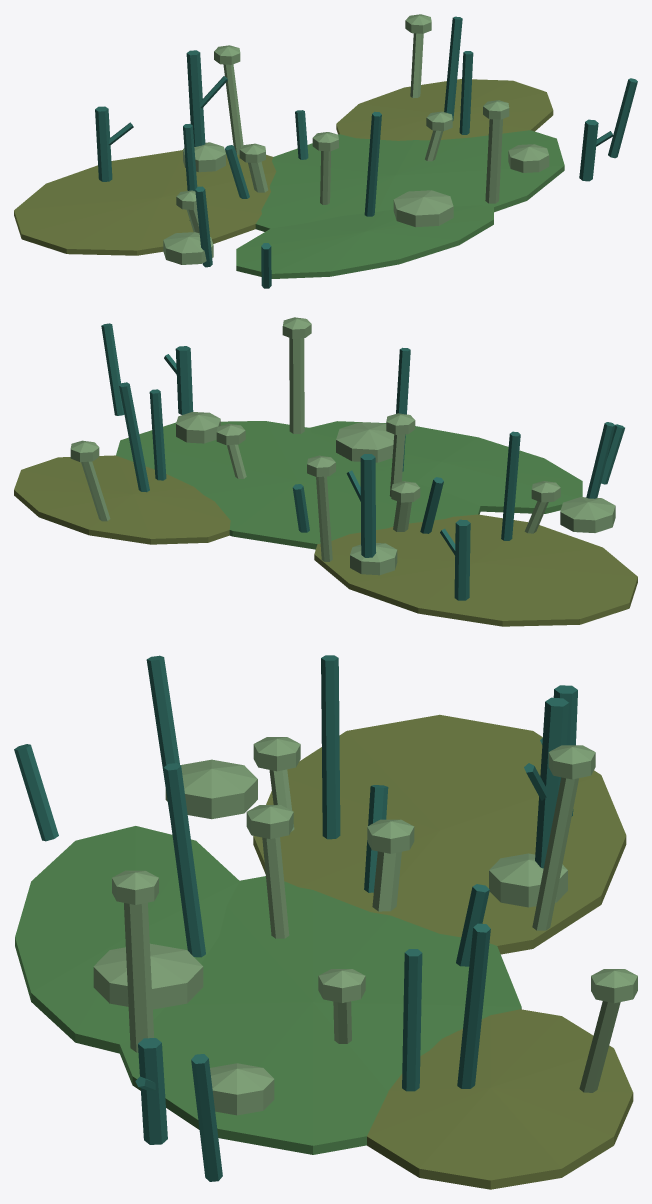
The model's file is vegetation_mat_c.obj.
3 renders of one model, top to bottom at view 1: azimuth 30°, elevation 25°; view 2: azimuth 150°, elevation 25°; view 3: azimuth 270°, elevation 25°, orthographic. The views are drawn at different scales.
Parts seen in each view (by area): view 1: mat_0, mat_1, mat_3, mat_2, filter_cup_2, filter_16, filter_cup_0, filter_12, filter_7, filter_8, filter_cup_3, filter_14 (+19 smaller); view 2: mat_0, mat_1, mat_2, mat_3, filter_cup_2, filter_cup_0, filter_16, filter_12, filter_14, filter_5, filter_8, filter_cup_3 (+20 smaller); view 3: mat_1, mat_0, mat_2, mat_3, filter_cup_2, filter_cup_0, filter_7, filter_12, filter_5, filter_14, filter_cup_3, filter_3 (+21 smaller).
Boxes of the visible parts, <box> form: mat_0: <box>14,150,276,255</box>; mat_1: <box>255,130,564,231</box>; mat_3: <box>236,205,493,278</box>; mat_2: <box>336,79,553,140</box>; filter_cup_2: <box>393,190,453,227</box>; filter_16: <box>186,50,205,146</box>; filter_cup_0: <box>163,232,213,264</box>; filter_12: <box>485,119,502,203</box>; filter_7: <box>364,111,381,216</box>; filter_8: <box>95,106,112,181</box>; filter_cup_3: <box>508,144,549,172</box>; filter_14: <box>444,16,462,120</box>; mat_0: <box>314,514,637,626</box>; mat_1: <box>116,421,480,549</box>; mat_2: <box>14,455,230,544</box>; mat_3: <box>309,421,582,513</box>; filter_cup_2: <box>336,422,394,462</box>; filter_cup_0: <box>560,497,615,532</box>; filter_16: <box>360,454,376,557</box>; filter_12: <box>289,338,304,433</box>; filter_14: <box>119,382,149,492</box>; filter_5: <box>501,431,520,540</box>; filter_8: <box>454,519,470,600</box>; filter_cup_3: <box>176,412,220,443</box>; mat_1: <box>119,876,521,1154</box>; mat_0: <box>253,714,626,954</box>; mat_2: <box>367,1009,633,1189</box>; mat_3: <box>15,826,239,1053</box>; filter_cup_2: <box>93,943,203,1009</box>; filter_cup_0: <box>165,759,257,819</box>; filter_7: <box>163,763,205,957</box>; filter_12: <box>124,902,153,1052</box>; filter_5: <box>321,655,340,839</box>; filter_14: <box>457,923,490,1088</box>; filter_cup_3: <box>210,1063,274,1115</box>; filter_3: <box>532,777,578,930</box>.
Bounding box in the file's own units: 8.82 × 1.78 × 4.92.
